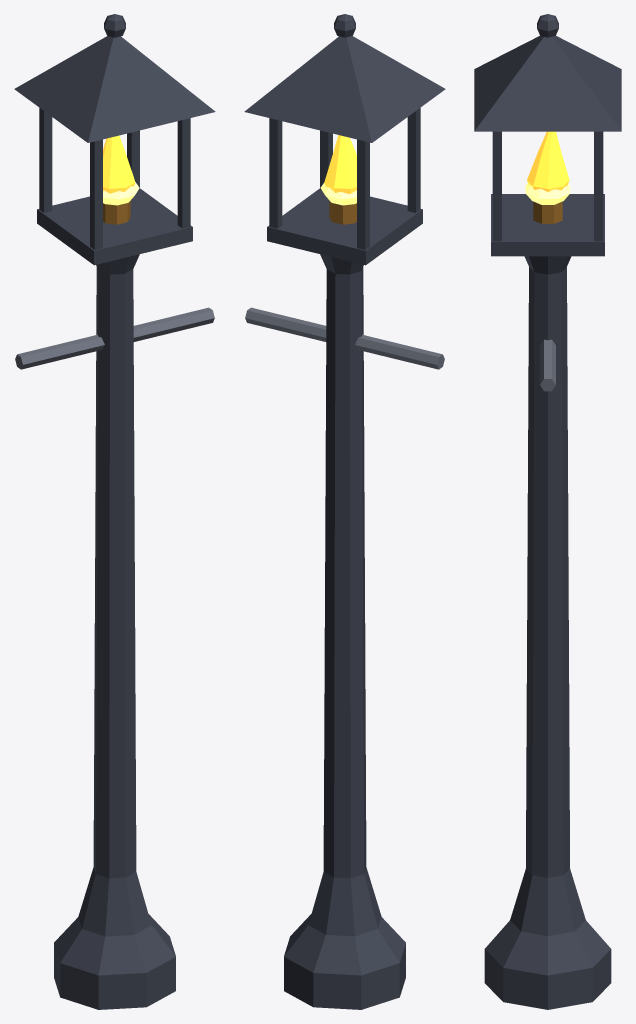
The model's file is pixor-library-street-lamp-oil.glb.
3 renders of one model, left to right at view 1: azimuth 30°, elevation 25°; view 2: azimuth 150°, elevation 25°; view 3: azimuth 270°, elevation 25°, orthographic.
Parts seen in each view (by area): view 1: Lamp post, Lamp lantern, Lamp ladder bar, Lamp flame, Lamp burner; view 2: Lamp post, Lamp lantern, Lamp ladder bar, Lamp flame, Lamp burner; view 3: Lamp post, Lamp lantern, Lamp flame, Lamp ladder bar, Lamp flame core, Lamp burner.
Part boxes in pixels (x1,y1,x2,y2): Lamp post: (54, 254, 175, 1009); Lamp lantern: (14, 14, 215, 265); Lamp ladder bar: (15, 307, 214, 369); Lamp flame: (103, 135, 135, 193); Lamp burner: (103, 201, 130, 224); Lamp post: (284, 254, 405, 1009); Lamp lantern: (244, 14, 445, 265); Lamp ladder bar: (245, 307, 444, 369); Lamp flame: (324, 135, 356, 194); Lamp burner: (329, 200, 356, 224); Lamp post: (484, 256, 611, 1009); Lamp lantern: (474, 14, 621, 256); Lamp flame: (527, 131, 569, 192); Lamp ladder bar: (540, 339, 555, 391); Lamp flame core: (525, 183, 570, 204); Lamp burner: (533, 201, 562, 223).
Bounding box in the file's own units: 0.7 × 3.38 × 0.4667.
